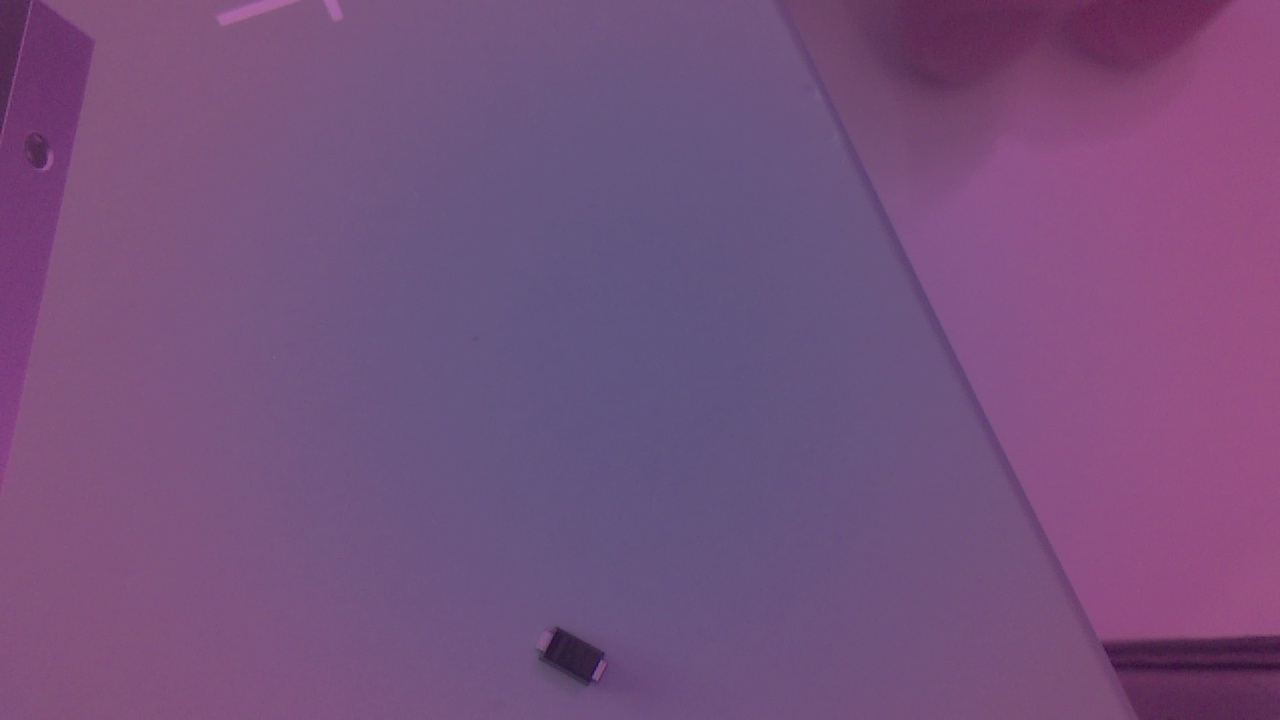Diode: (535, 624, 619, 698)
